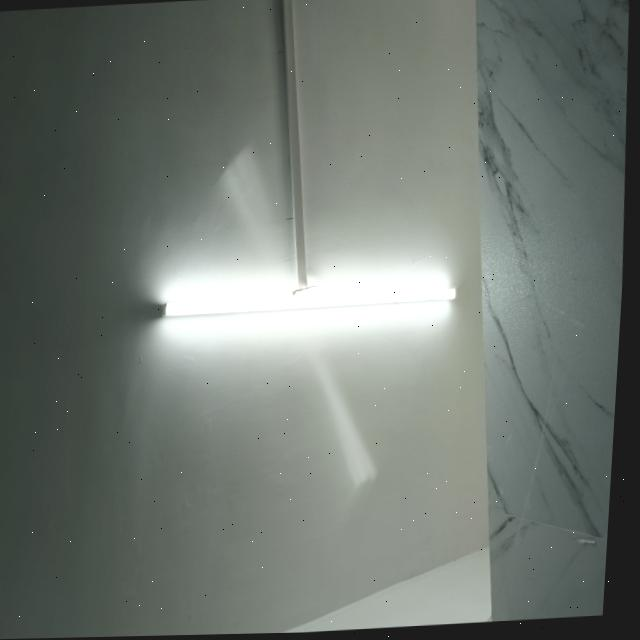light_on: (145, 254, 470, 341)
